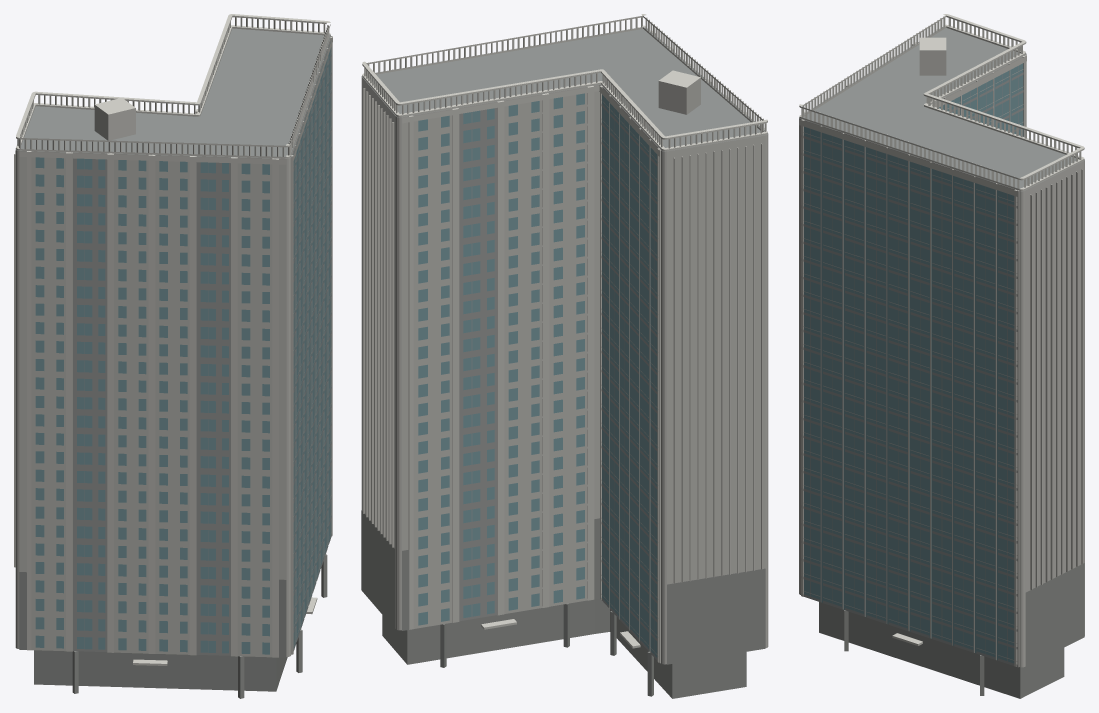
Rendered from maple-xi-203.glb.
The picture shows the model from 3 angles, left to right: view 1: azimuth 30°, elevation 25°; view 2: azimuth 150°, elevation 25°; view 3: azimuth 270°, elevation 25°; orthographic projection. The views are drawn at different scales.
Parts seen in each view (by area): view 1: maple-xi-203; view 2: maple-xi-203; view 3: maple-xi-203.
Part boxes in pixels (x1,y1,x2,y2): maple-xi-203: (14, 14, 332, 698); maple-xi-203: (361, 14, 768, 698); maple-xi-203: (799, 14, 1084, 698).
Size of the model in its own units: 61.93 by 94.56 by 45.4.
